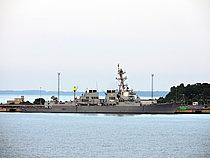MIL_Ship: (20, 65, 183, 115)
